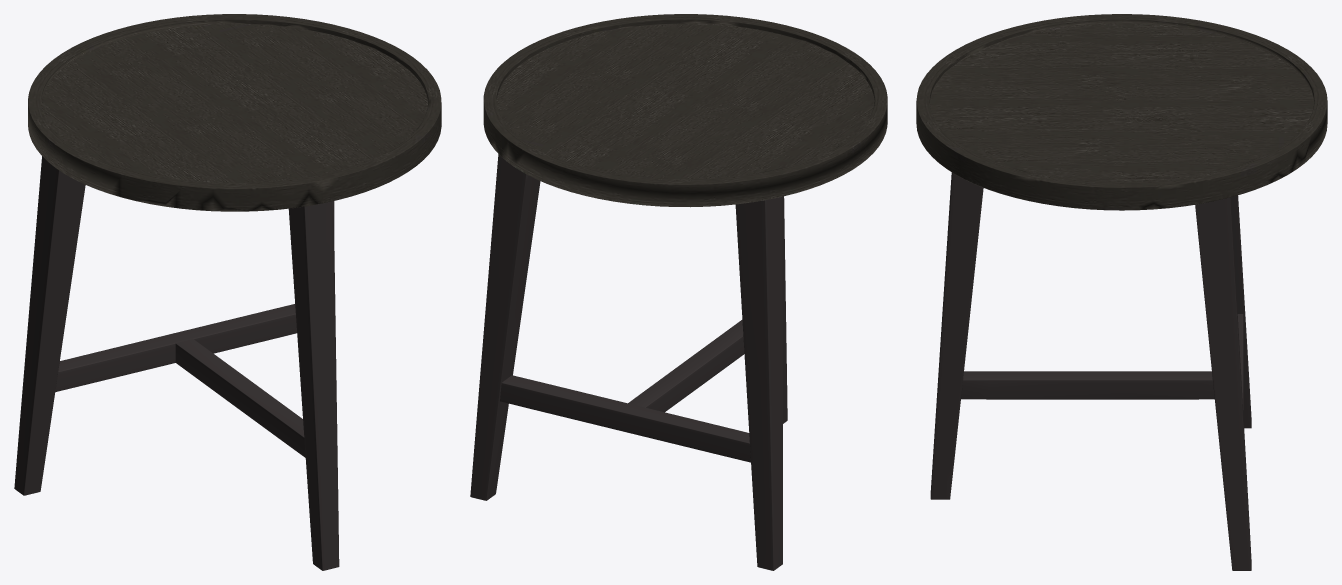
File: abo-b072zmt5r7.b053455d51.glb
3 renders of one model, left to right at view 1: azimuth 30°, elevation 25°; view 2: azimuth 150°, elevation 25°; view 3: azimuth 270°, elevation 25°, orthographic. The views are drawn at different scales.
Parts seen in each view (by area): view 1: RootNode; view 2: RootNode; view 3: RootNode.
Boxes of the visible parts, left/top/right/bottom form: RootNode: left=14, top=14, right=441, bottom=570; RootNode: left=470, top=14, right=887, bottom=570; RootNode: left=916, top=14, right=1327, bottom=570.
Bounding box in the file's own units: 0.5 × 0.5312 × 0.5.
1 material, 1 textured.
